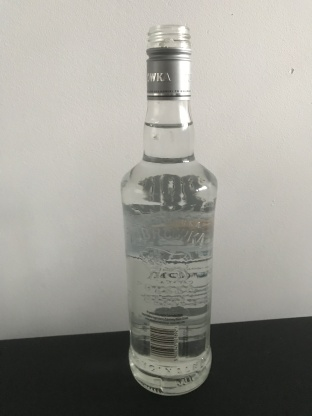nakretka: (144, 20, 192, 101)
